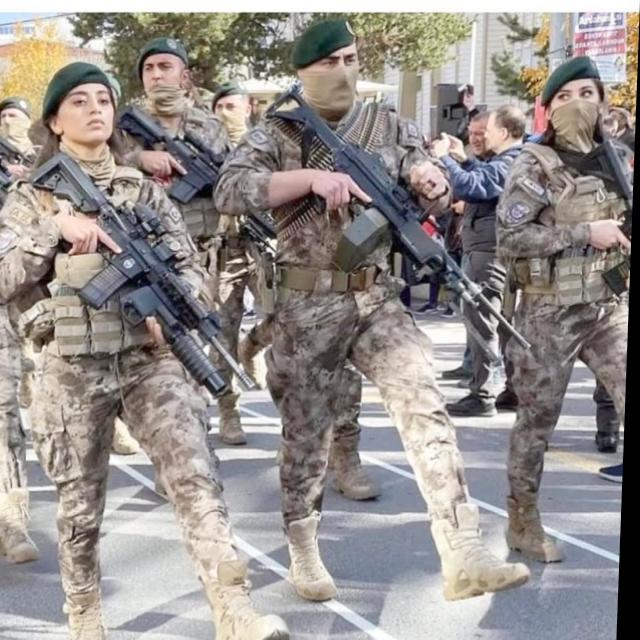poh_personel: (205, 20, 550, 601), (0, 61, 313, 640), (488, 59, 638, 564)
